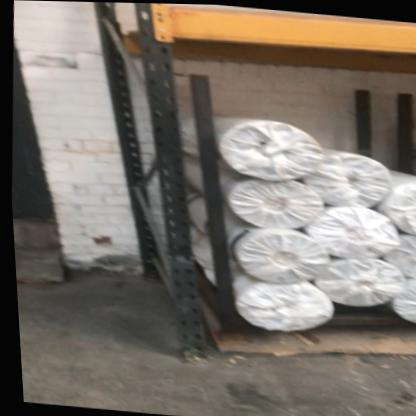vertical_damage: (155, 233, 200, 281)
